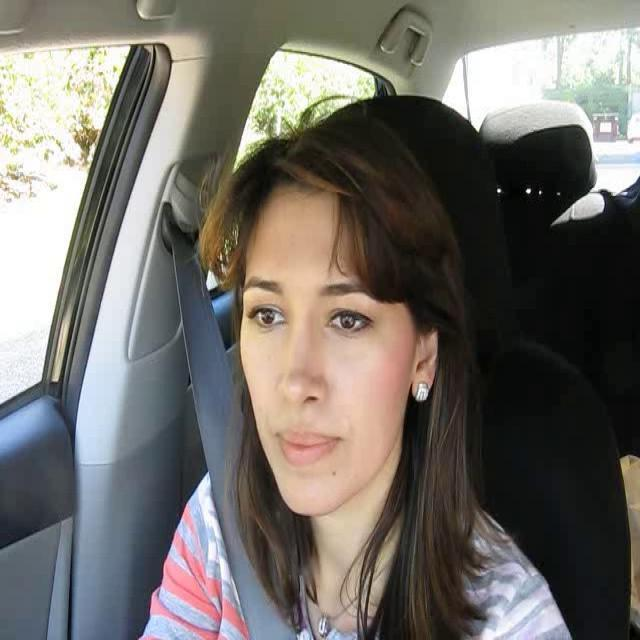open: (309, 278, 395, 342), (234, 275, 297, 334)
